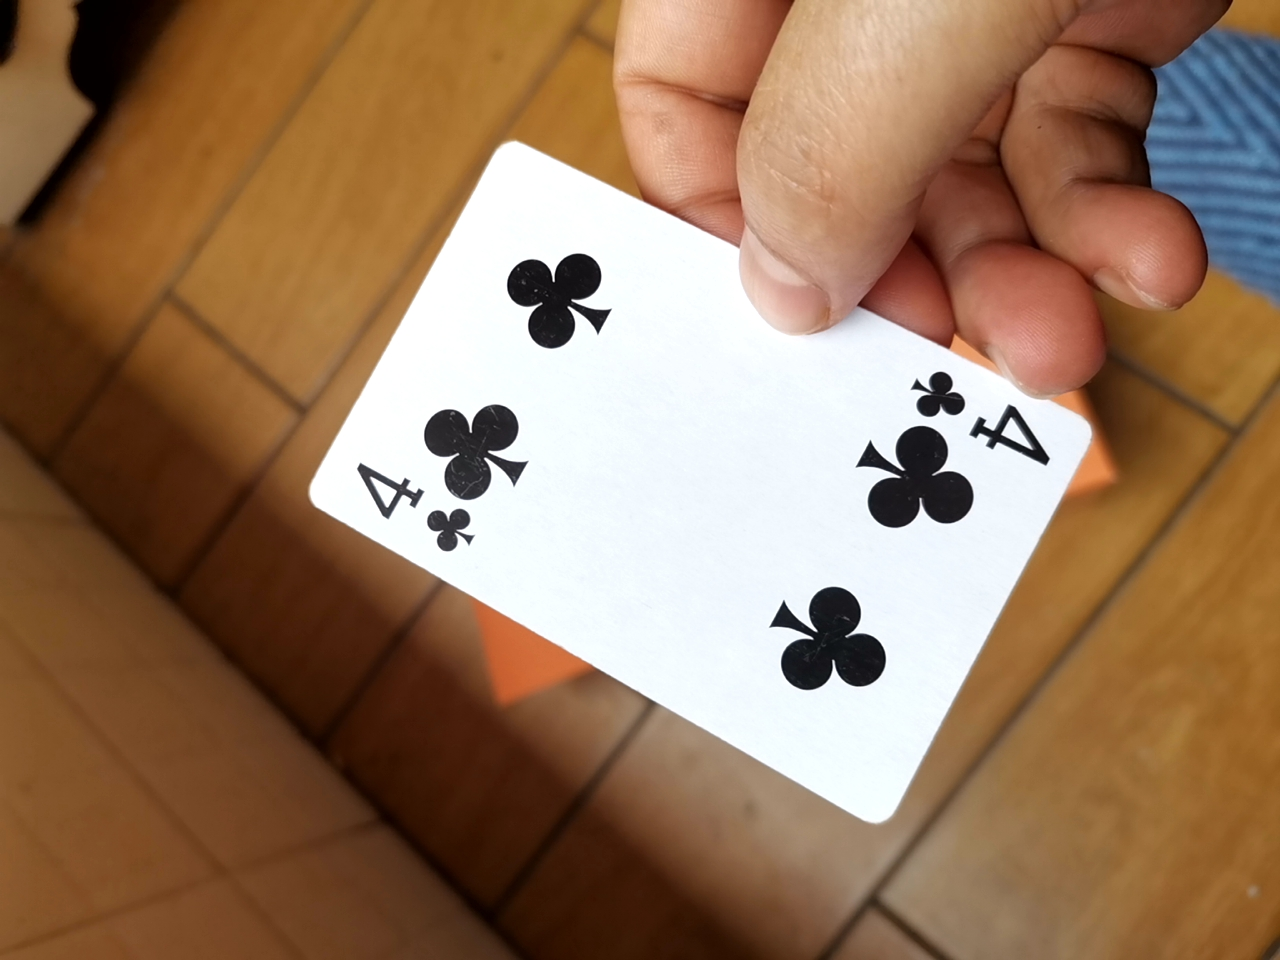mh 4: (276, 132, 1096, 833)
